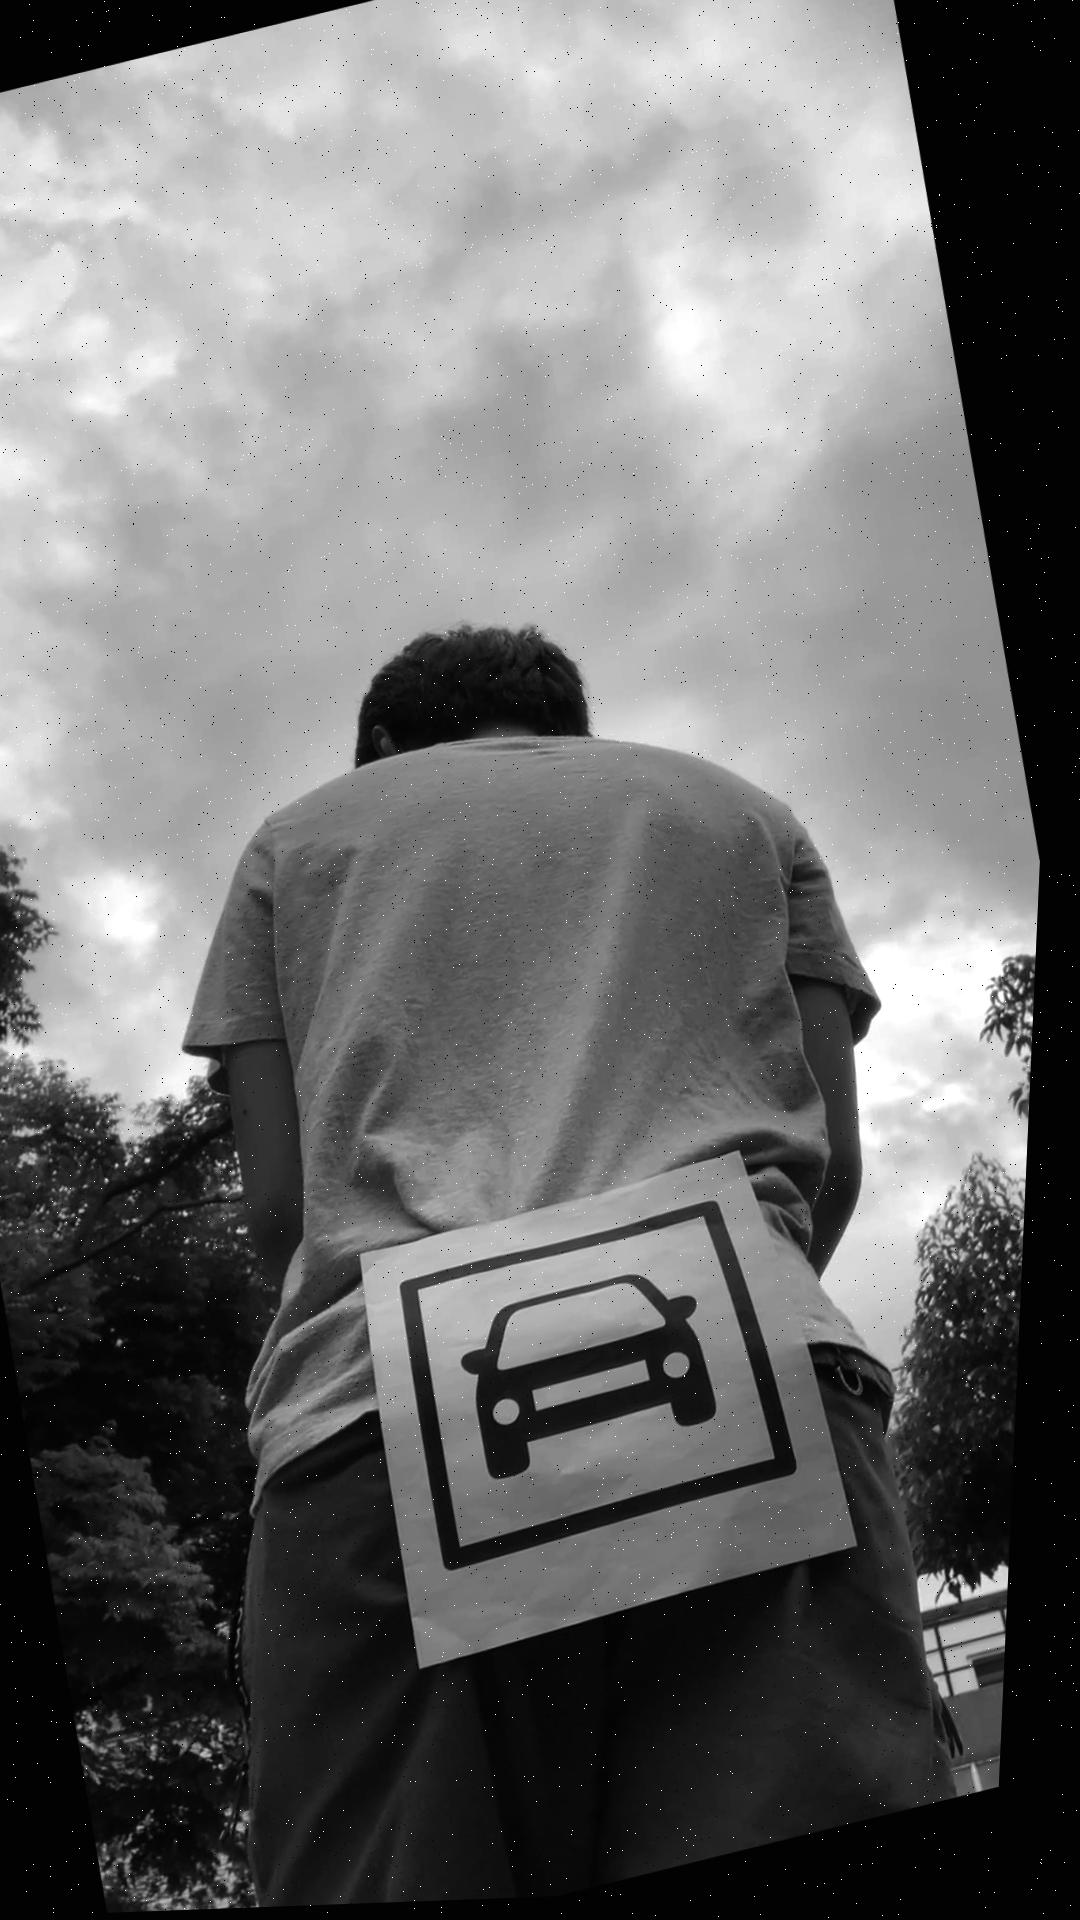car_img: (396, 1193, 825, 1578)
